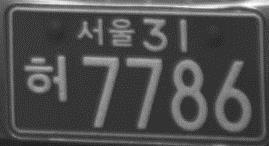1: (177, 17, 190, 54)
3: (141, 16, 169, 53)
6: (212, 59, 254, 134)
7: (80, 54, 122, 130), (122, 55, 164, 130)
8: (168, 58, 209, 132)
서울_O: (76, 17, 137, 48)
허: (22, 53, 70, 106)
